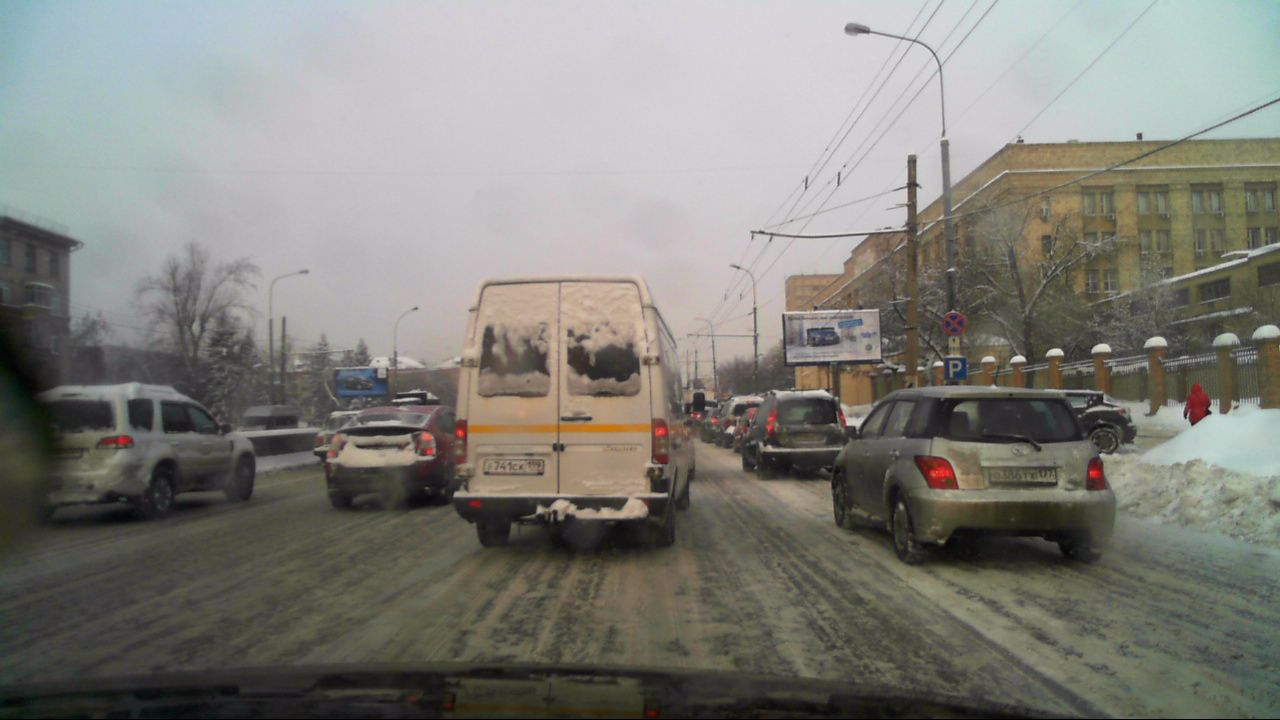No Parking: (939, 310, 966, 333)
